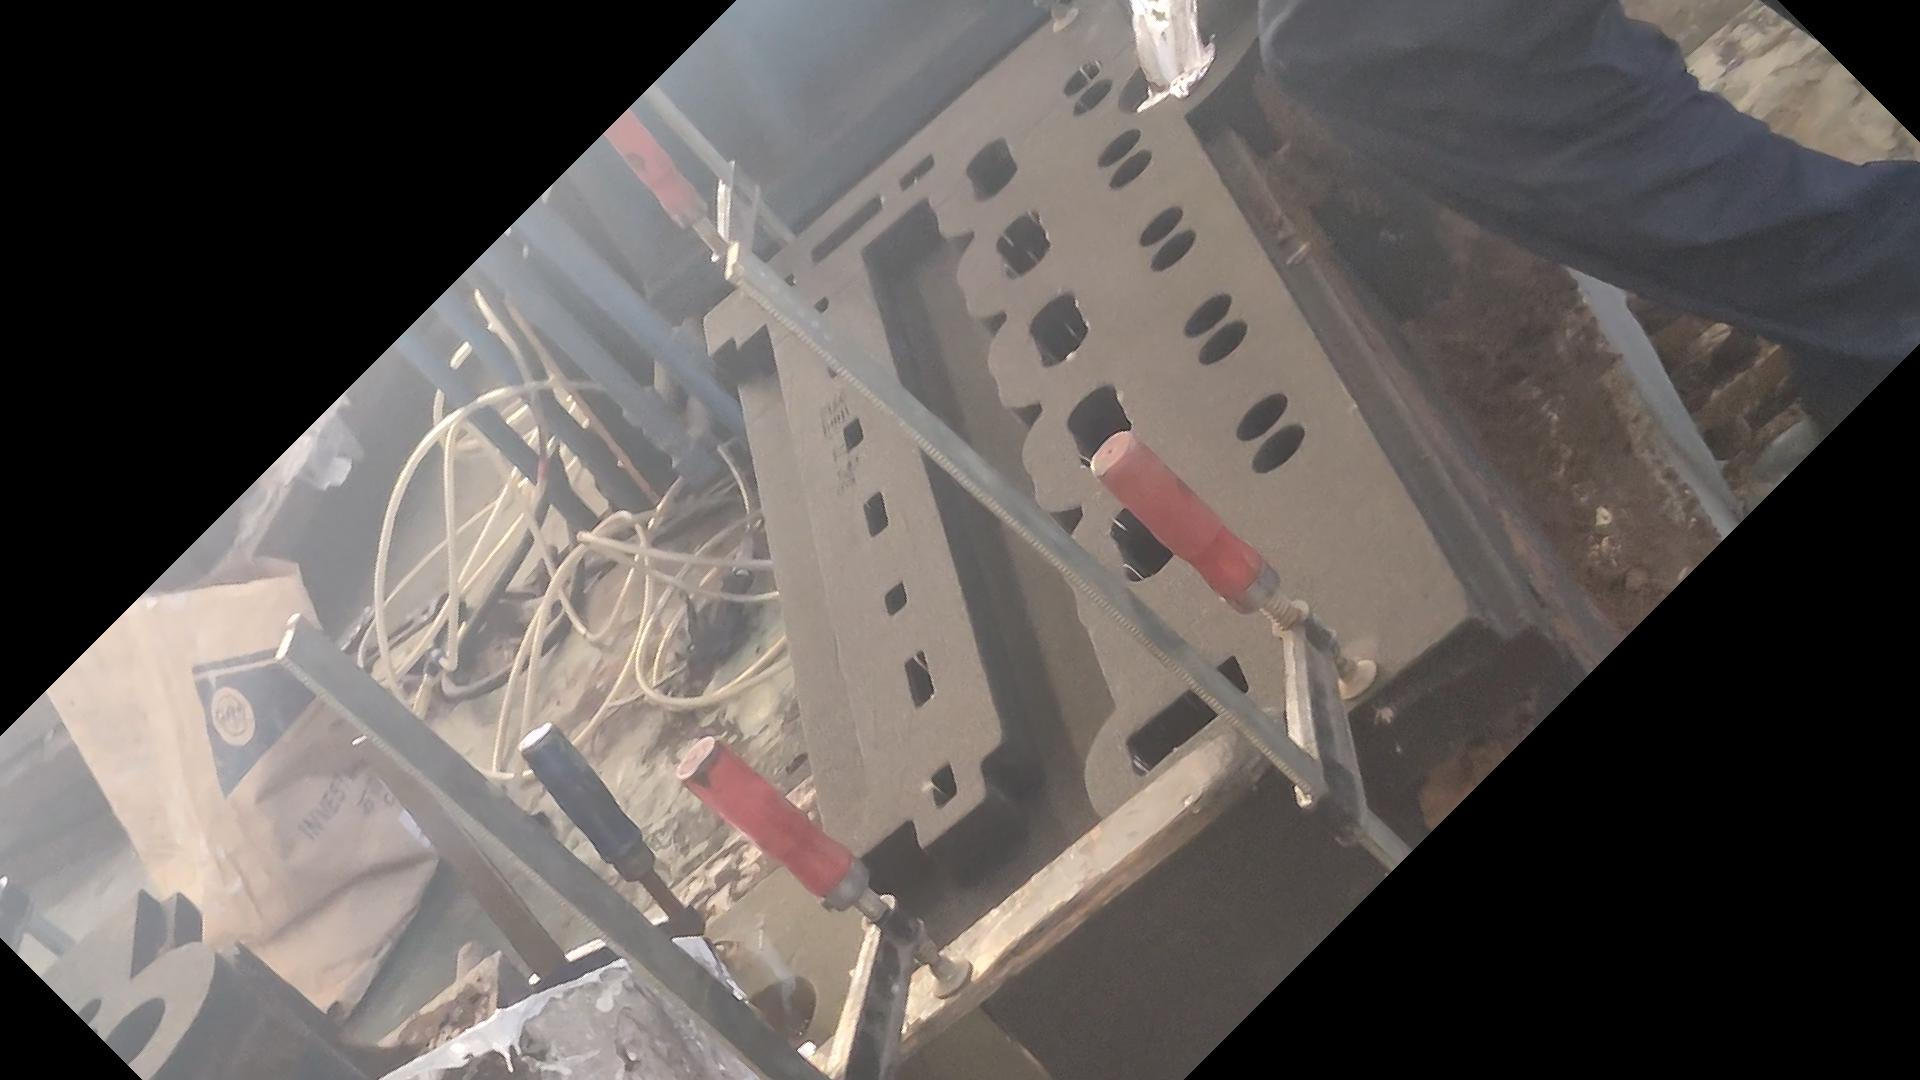pouring hole: (1120, 34, 1213, 115), (736, 975, 818, 1054), (102, 998, 167, 1072)
